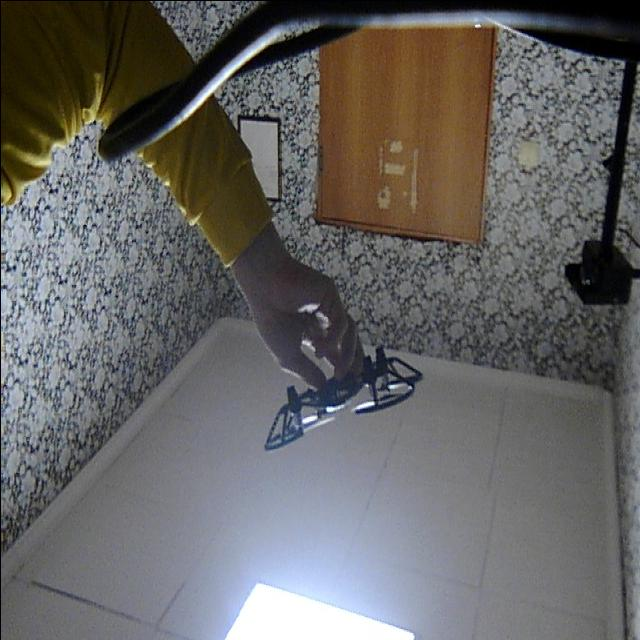drone: (245, 338, 428, 462)
